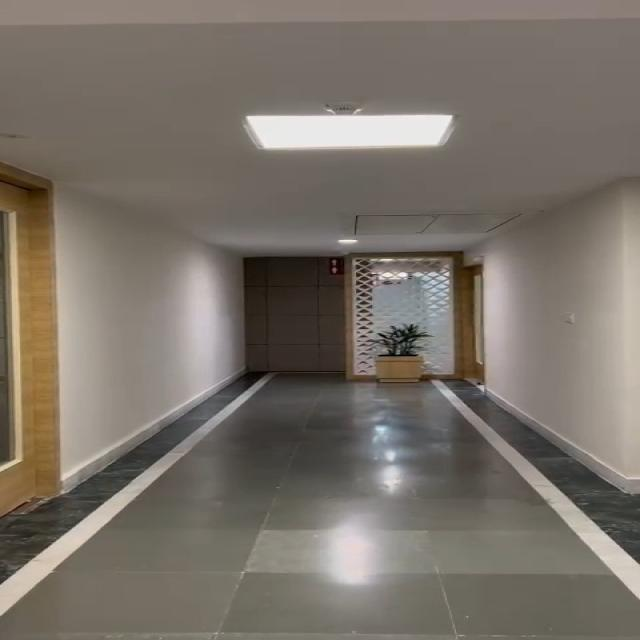door: (1, 162, 61, 498)
floor: (229, 387, 479, 640)
furniture: (355, 325, 441, 395)
wall: (491, 210, 635, 417), (80, 200, 234, 392)
